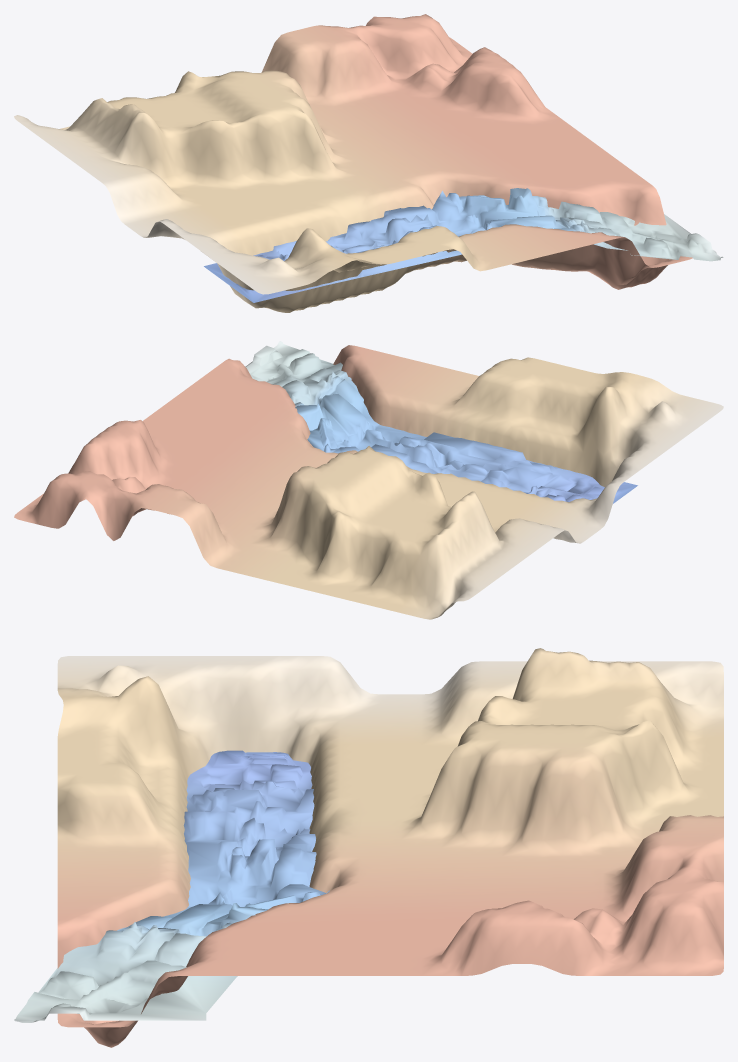
File: Environment.fbx
3 renders of one model, top to bottom at view 1: azimuth 30°, elevation 25°; view 2: azimuth 150°, elevation 25°; view 3: azimuth 270°, elevation 25°, orthographic. The views are drawn at different scales.
Parts seen in each view (by area): view 1: floor, Water; view 2: floor, Water; view 3: floor, Water.
Part boxes in pixels (left/top/right/bottom): floor: left=14, top=14, right=692, bottom=312; Water: left=204, top=188, right=723, bottom=302; floor: left=14, top=345, right=723, bottom=619; Water: left=245, top=341, right=637, bottom=503; floor: left=57, top=648, right=723, bottom=1047; Water: left=14, top=750, right=329, bottom=1022.
Bounding box in the file's own units: 1022 × 294 × 1066.
